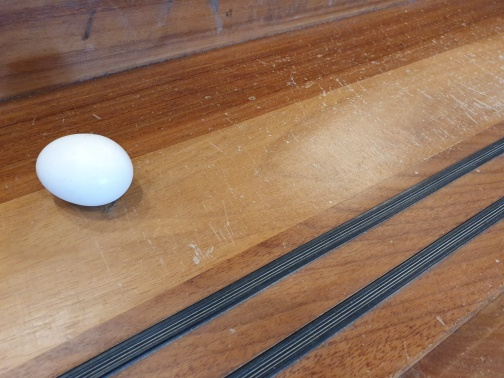egg: (35, 134, 134, 209)
